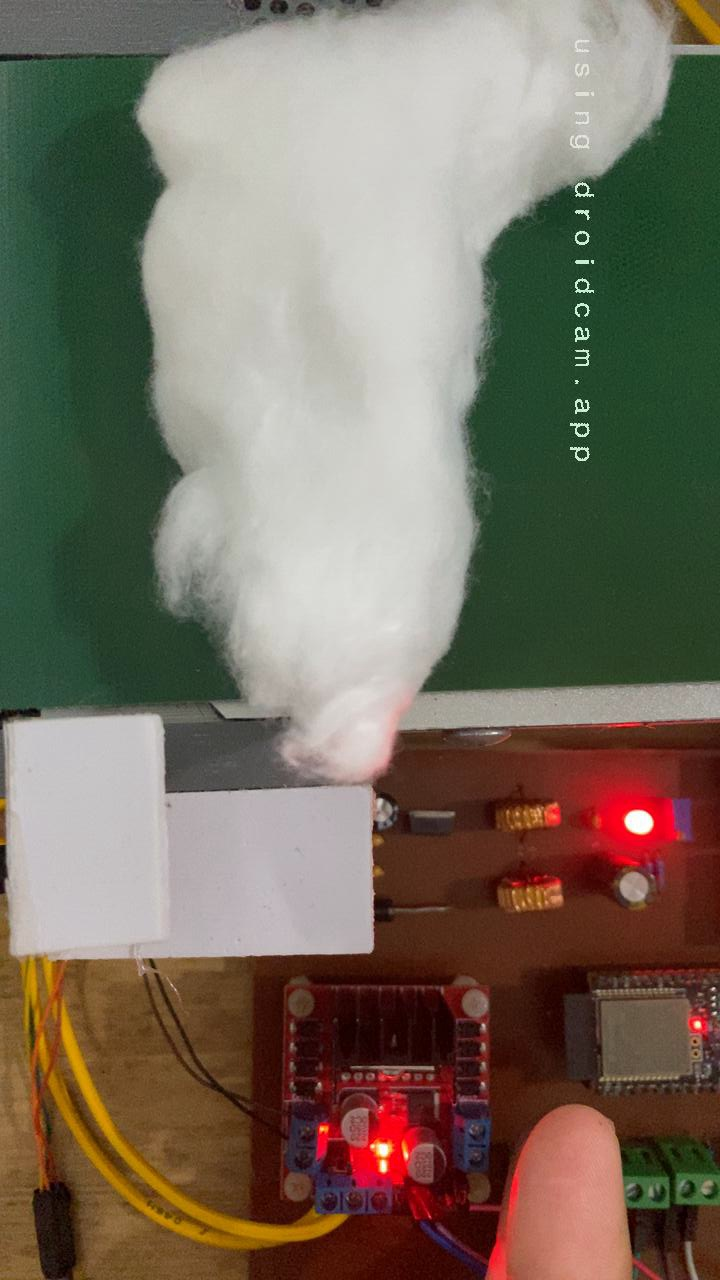cotton: (133, 159, 624, 688)
